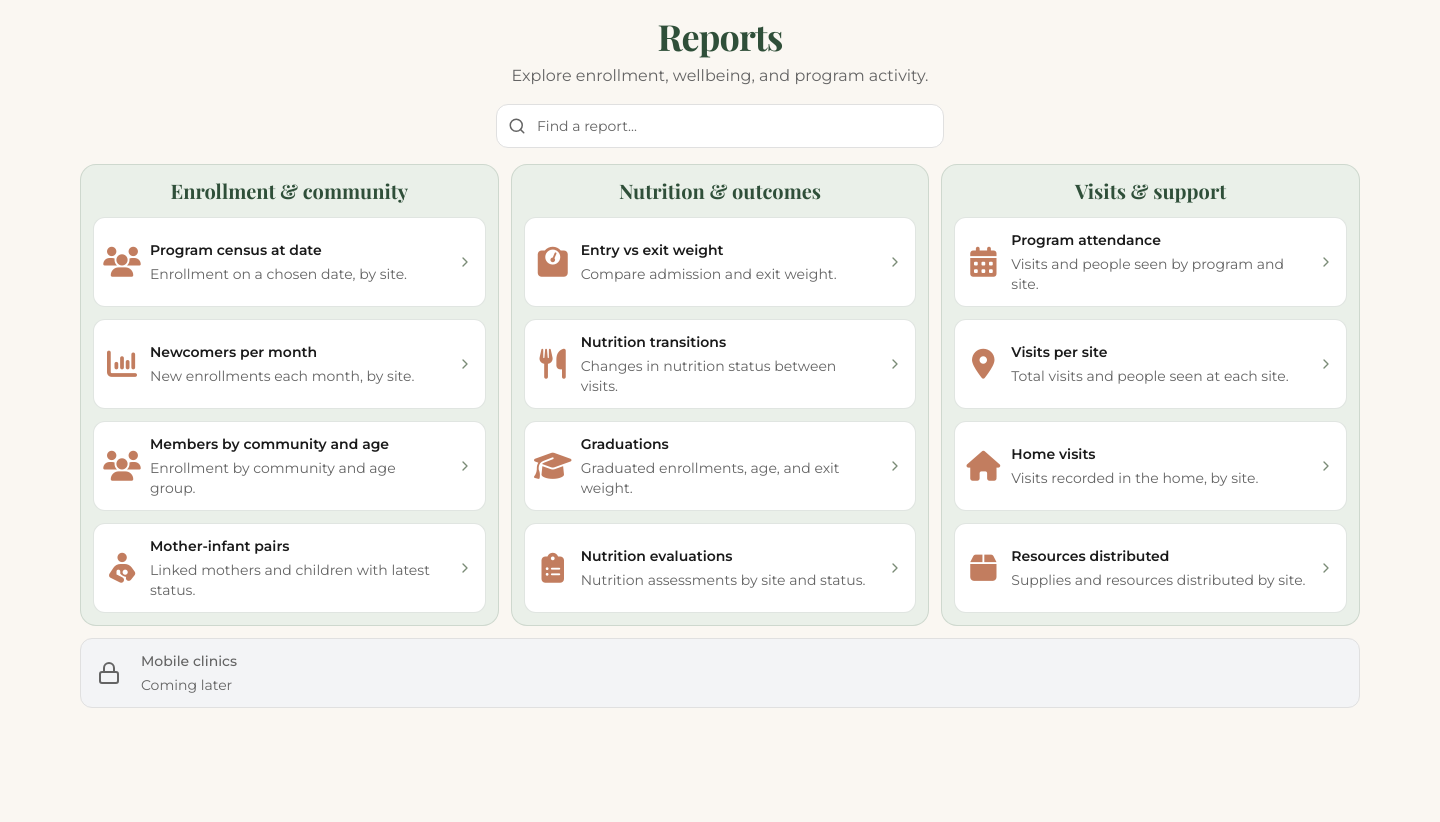
Test: ReportsPage › searches names regardless of case, word order, and surrounding whitespace
This screenshot has width=1440, height=822.
Type "  WEIGHT entry  " into the search field labelled "Find a report" at [720, 126], box [496,104,944,148]
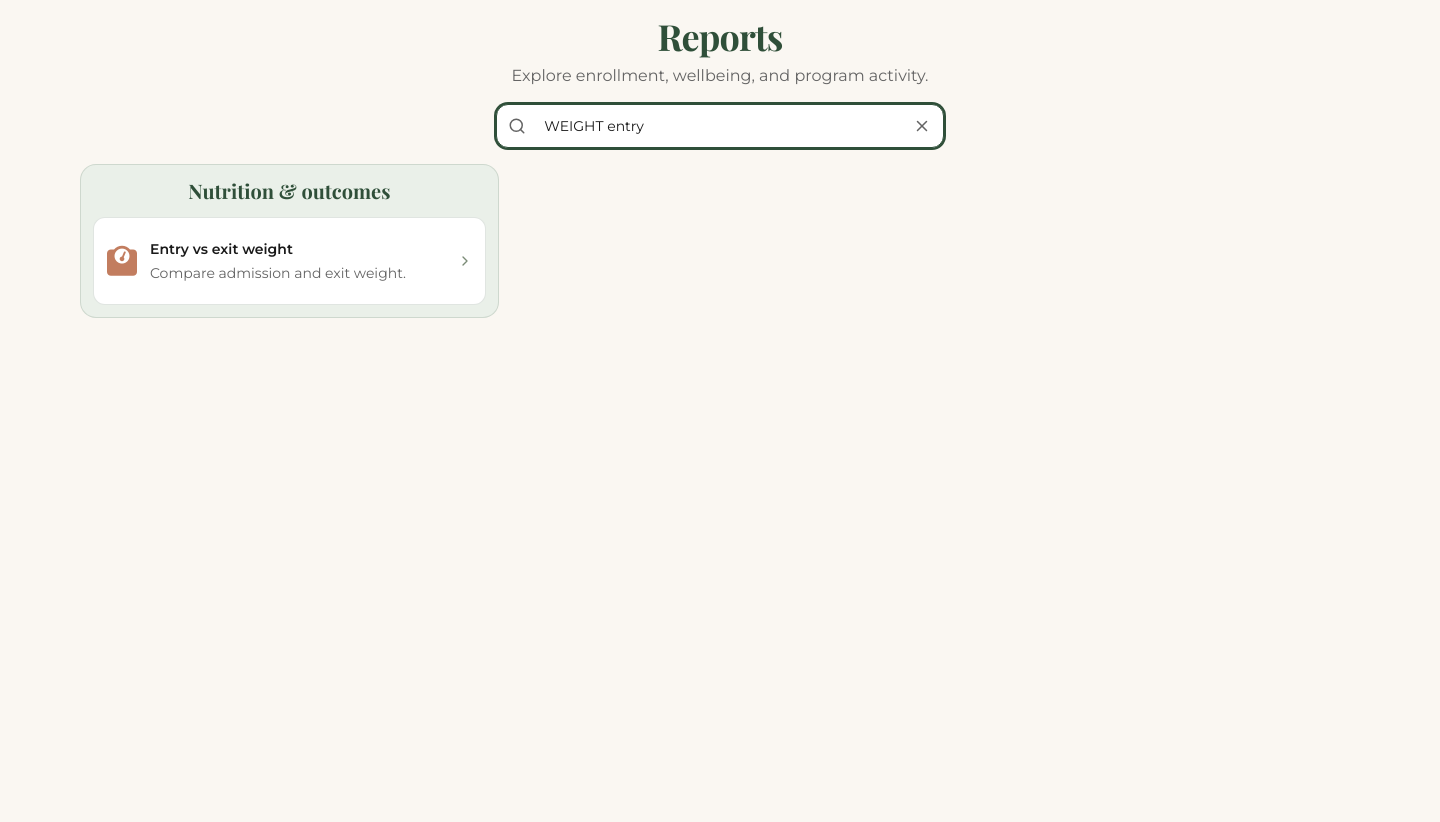
Expected: the number of links is 1, [93,217,486,305]
Expected: the heading "Enrollment & community" is gone
